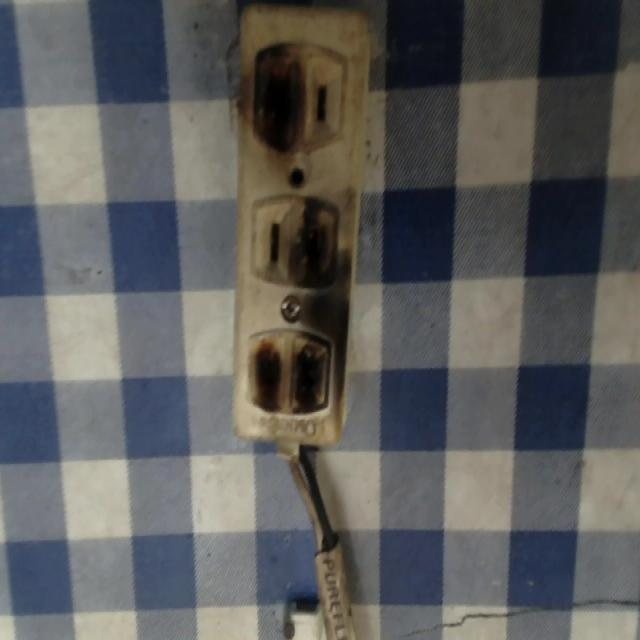-: (240, 313, 336, 431), (240, 31, 309, 160), (296, 190, 343, 298)
